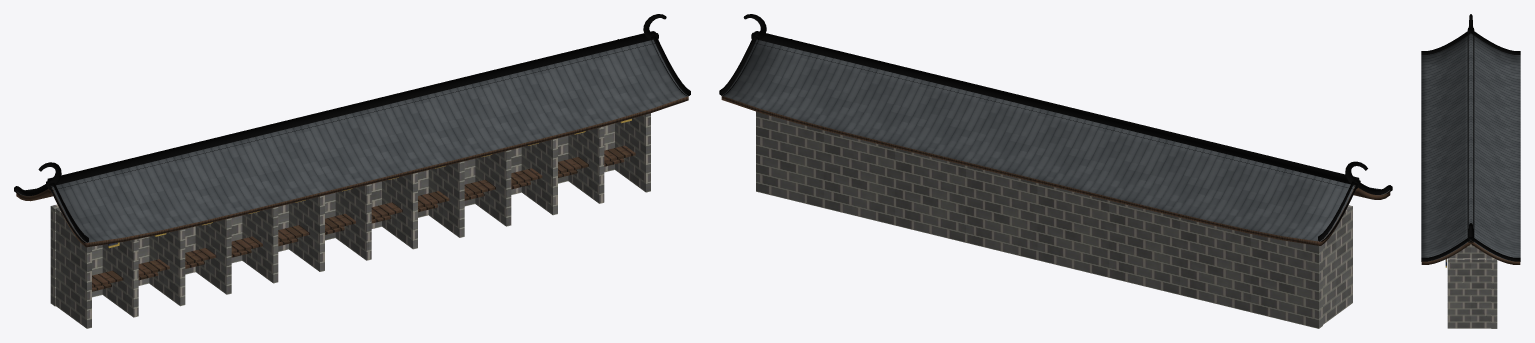
The model's file is exam_cells.glb.
3 renders of one model, left to right at view 1: azimuth 30°, elevation 25°; view 2: azimuth 150°, elevation 25°; view 3: azimuth 270°, elevation 25°, orthographic. The views are drawn at different scales.
Visible parts, largest first — view 1: CellsRoof, CellWalls, CellsRoofRidge, CellBoards; view 2: CellWalls, CellsRoof, CellsRoofRidge; view 3: CellsRoof, CellWalls, CellsRoofRidge.
Boxes of the visible parts, <box> form: CellsRoof: <box>16,39,688,247</box>; CellWalls: <box>50,113,650,328</box>; CellsRoofRidge: <box>14,14,690,242</box>; CellBoards: <box>92,145,635,291</box>; CellWalls: <box>756,111,1352,328</box>; CellsRoof: <box>721,39,1390,245</box>; CellsRoofRidge: <box>719,14,1392,241</box>; CellsRoof: <box>1421,33,1520,264</box>; CellWalls: <box>1447,244,1497,328</box>; CellsRoofRidge: <box>1421,14,1520,261</box>.
Size of what is drawn, in the model's own units: 17.51 by 4.25 by 3.4.
Materials: 6 (6 with a texture image).
